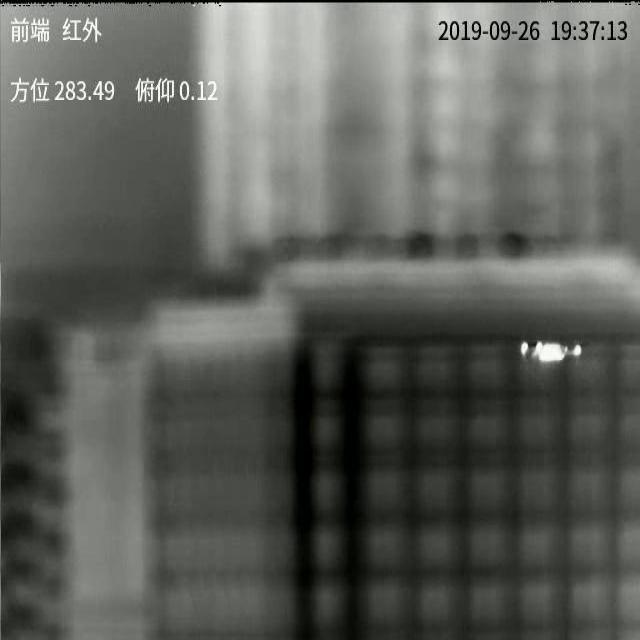drone: (519, 340, 582, 364)
